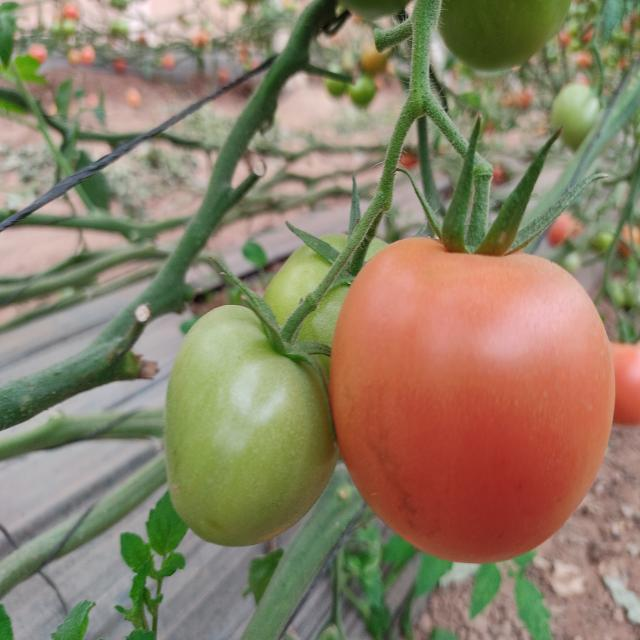Ripe Tomato: (334, 236, 616, 563)
Unripe Tomato: (167, 305, 342, 541), (264, 232, 394, 398)
